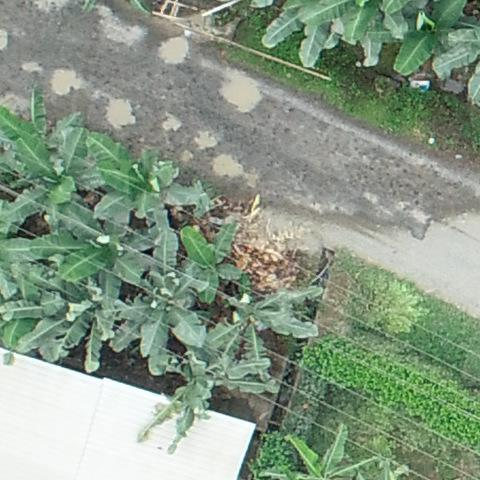Banana-plant: (8, 263, 120, 368), (89, 137, 205, 228), (0, 99, 89, 217), (123, 241, 210, 356), (40, 202, 149, 291), (214, 281, 317, 369), (391, 0, 480, 80), (302, 0, 424, 53), (269, 427, 371, 480), (168, 227, 246, 295)
